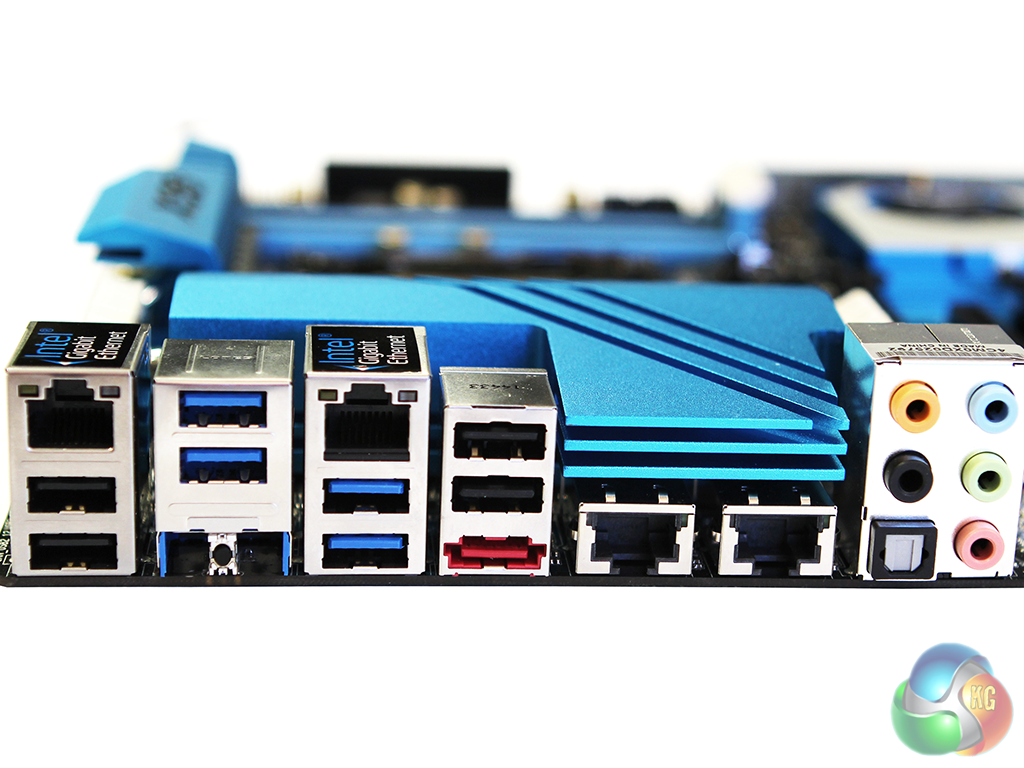Audio: (885, 374, 943, 433), (956, 444, 1014, 503), (882, 448, 940, 505), (951, 514, 1009, 570), (963, 378, 1020, 433)
Ethernet: (15, 374, 126, 458), (312, 382, 418, 459), (582, 503, 689, 576), (727, 505, 831, 575), (802, 625, 804, 626)
USB: (450, 412, 551, 458), (314, 475, 423, 514), (175, 445, 276, 487), (443, 474, 548, 514), (26, 470, 118, 514), (179, 386, 269, 428), (318, 530, 412, 570), (26, 532, 122, 564)
